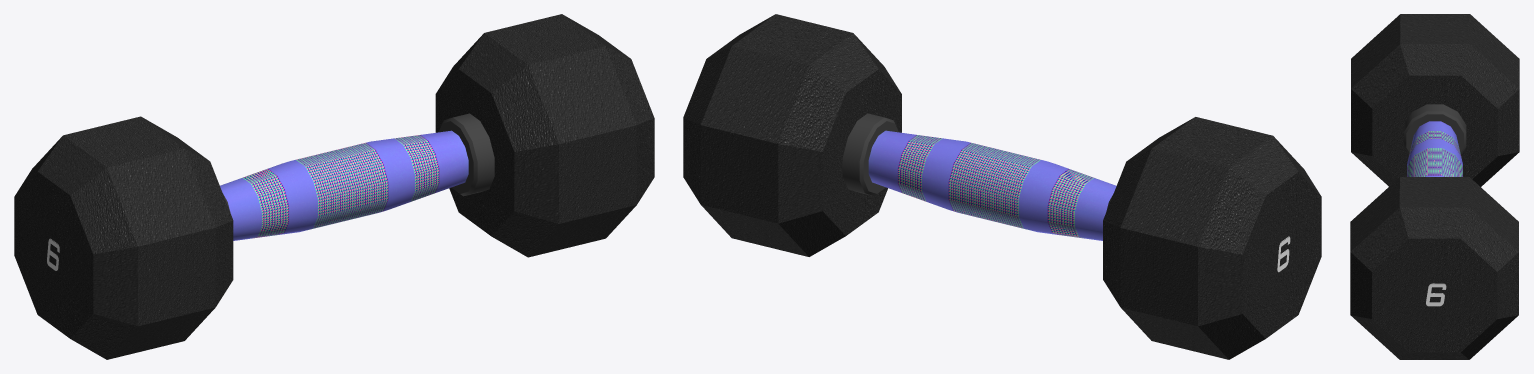
Rendered from Dumbbell_6kG.FBX.
The picture shows the model from 3 angles, left to right: view 1: azimuth 30°, elevation 25°; view 2: azimuth 150°, elevation 25°; view 3: azimuth 270°, elevation 25°; orthographic projection. The views are drawn at different scales.
Visible parts, largest first — view 1: Dumbbell_6kG; view 2: Dumbbell_6kG; view 3: Dumbbell_6kG.
Boxes of the visible parts, x1,y1,x2,y2 form: Dumbbell_6kG: (14, 14, 654, 359); Dumbbell_6kG: (683, 14, 1321, 359); Dumbbell_6kG: (1350, 14, 1519, 359).
Bounding box in the file's own units: 0.2967 × 0.0974 × 0.0971.
